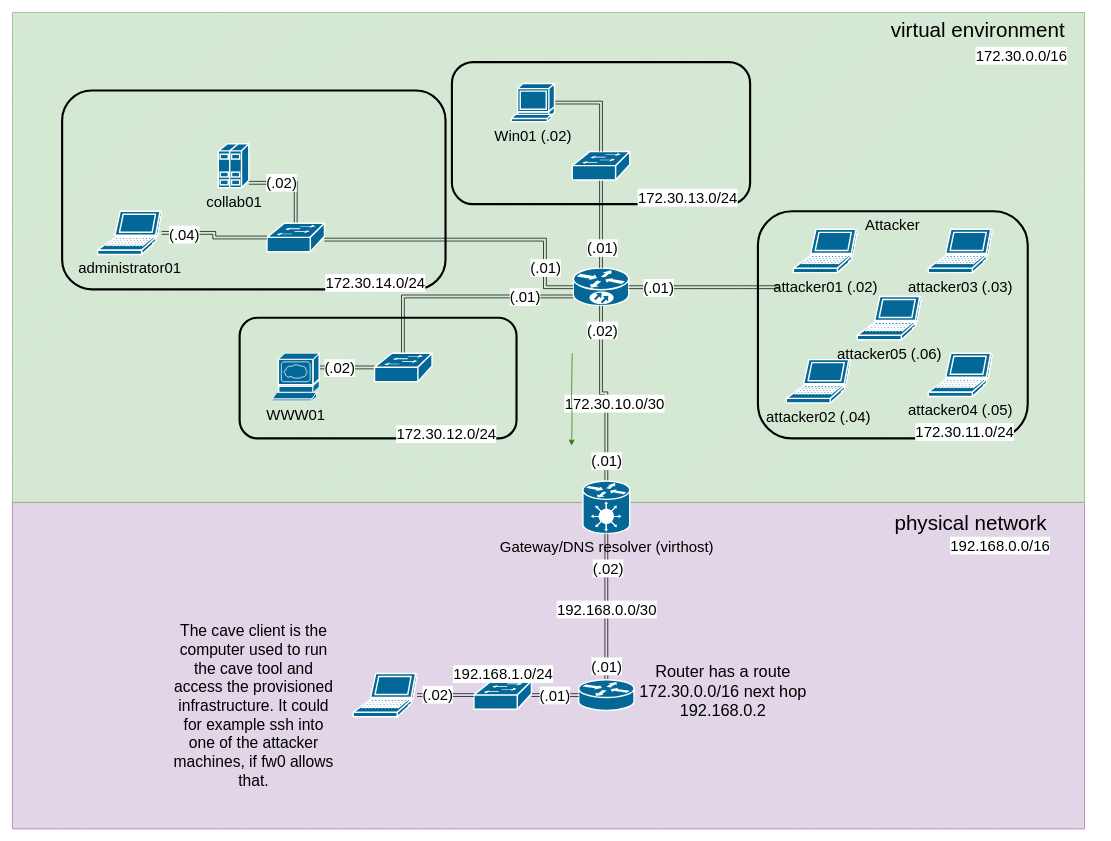
The diagram is 1111 pixels wide and 841 high, and some of its shapes have lost their labels. The box of each missing label's shape, as (x1, y1, x2, y2) in pixels:
cave client: (352, 672, 417, 717)
DMZ: (238, 316, 517, 439)
FW01: (572, 267, 629, 306)
Intern: (450, 61, 751, 205)
router: (578, 679, 634, 711)
Services: (61, 89, 446, 290)
